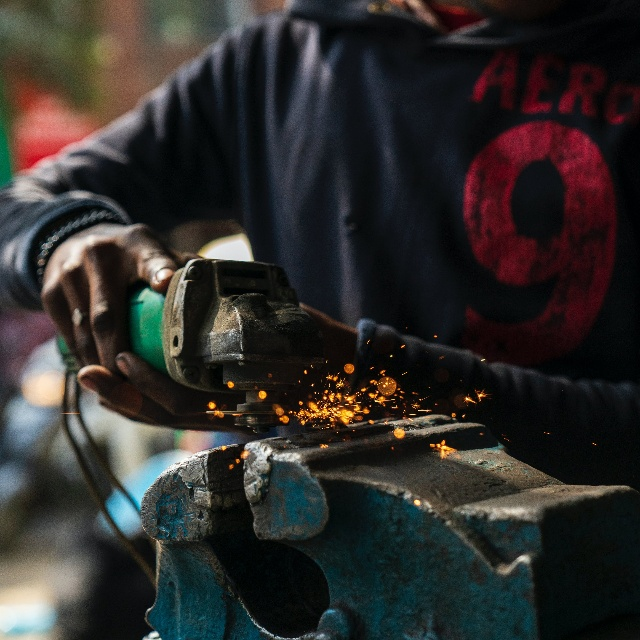Sin_guantes: (39, 224, 203, 364), (79, 354, 205, 429)
